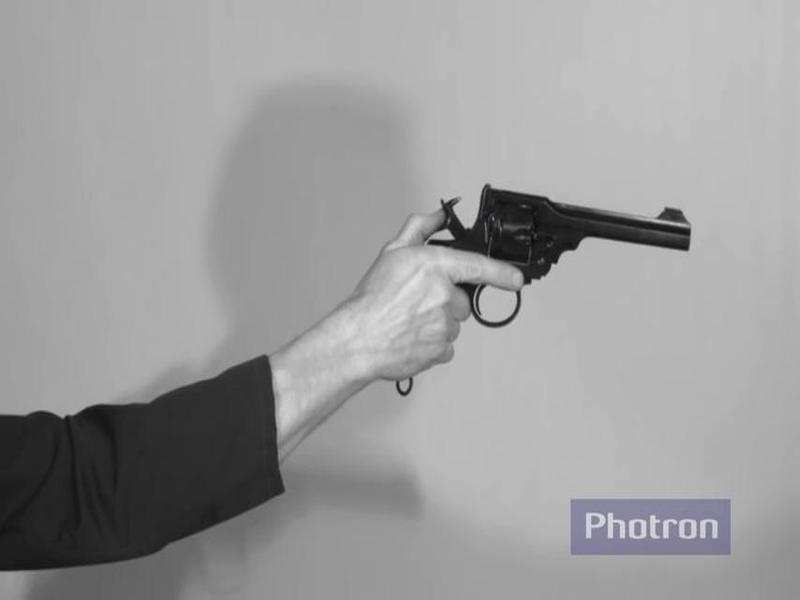Revolver: (344, 155, 737, 412)
